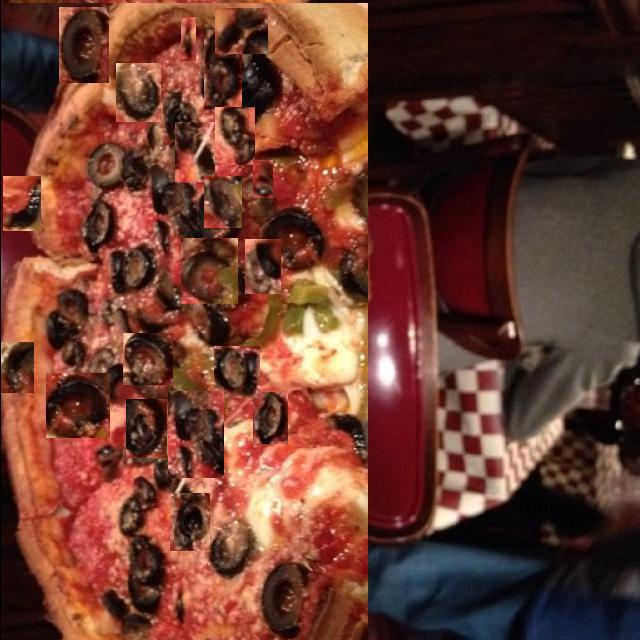olive: (88, 516, 170, 612), (278, 233, 321, 355), (167, 391, 223, 478), (45, 373, 109, 438), (58, 7, 108, 83), (180, 238, 237, 304), (203, 28, 241, 109), (115, 64, 160, 124), (122, 333, 172, 385), (214, 8, 267, 54), (125, 399, 166, 458), (174, 122, 214, 182), (213, 346, 259, 398), (214, 107, 254, 165), (168, 493, 208, 551), (240, 452, 282, 503), (2, 176, 40, 231), (140, 296, 182, 344), (244, 239, 280, 294), (203, 176, 241, 228), (252, 392, 287, 444), (0, 342, 33, 393), (252, 160, 272, 198), (180, 17, 195, 61)
pizza: (0, 3, 367, 640)
